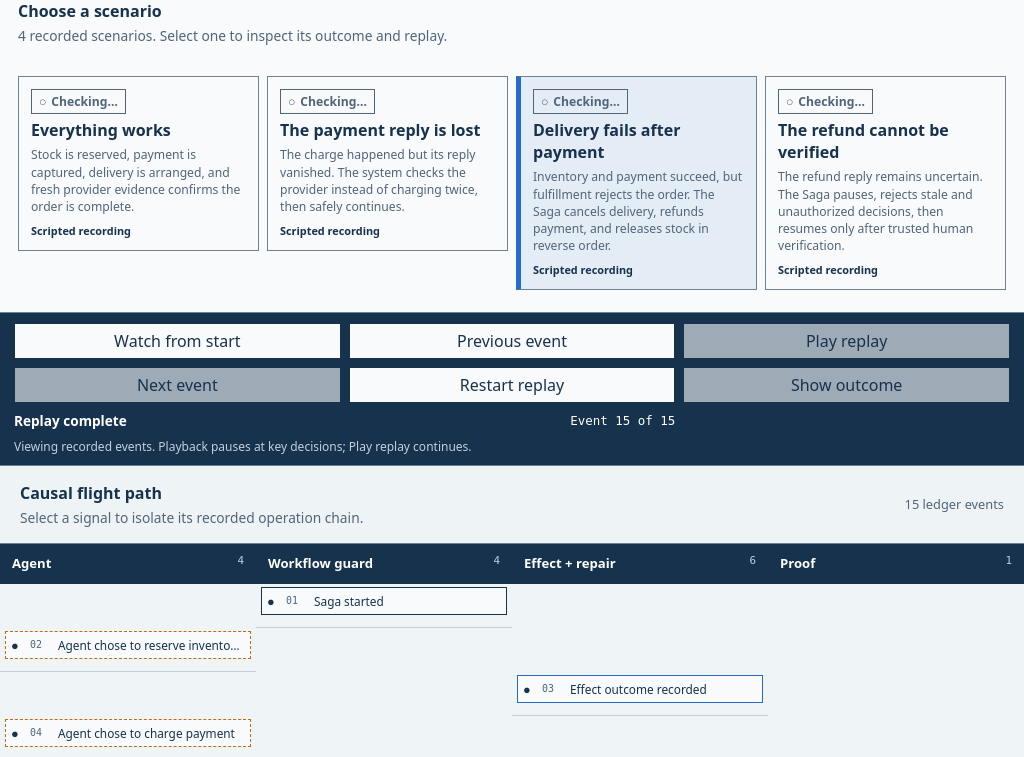
RecorderWorkbench › pauses replay when the operator changes evidence views
(page scrolled)
Step 1. Click the button "Restart replay" → (512, 385), box [349,367,675,403]
(page scrolled)
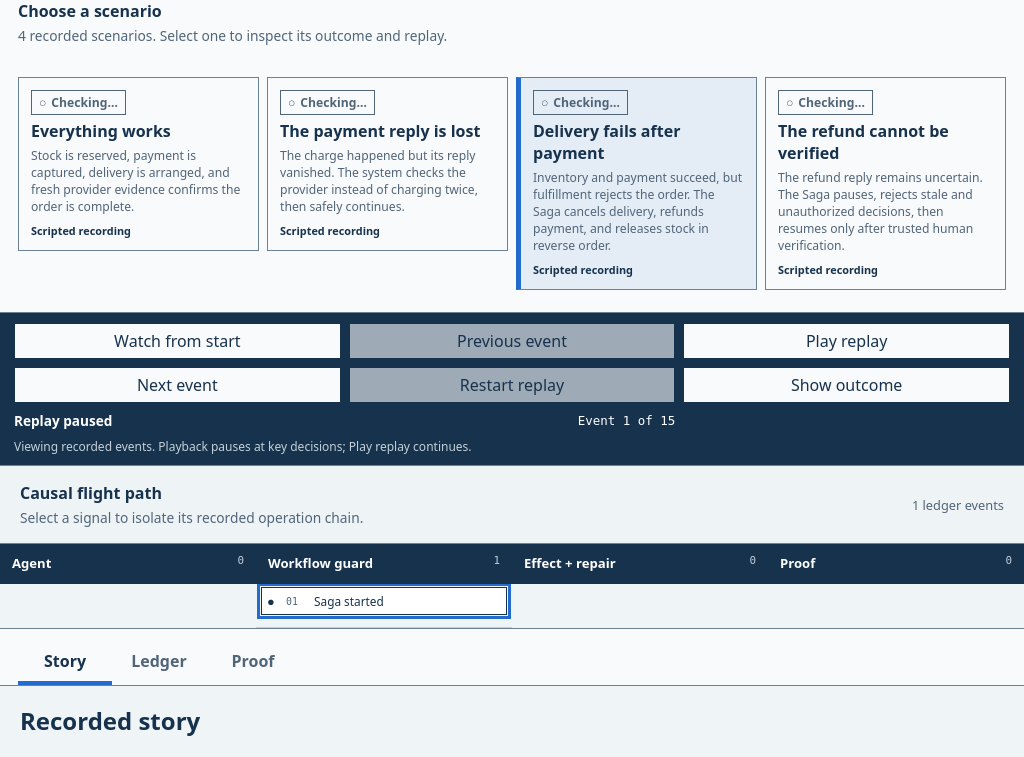
Step 2. Click the button "Play replay" → (847, 341), box [683,323,1010,359]
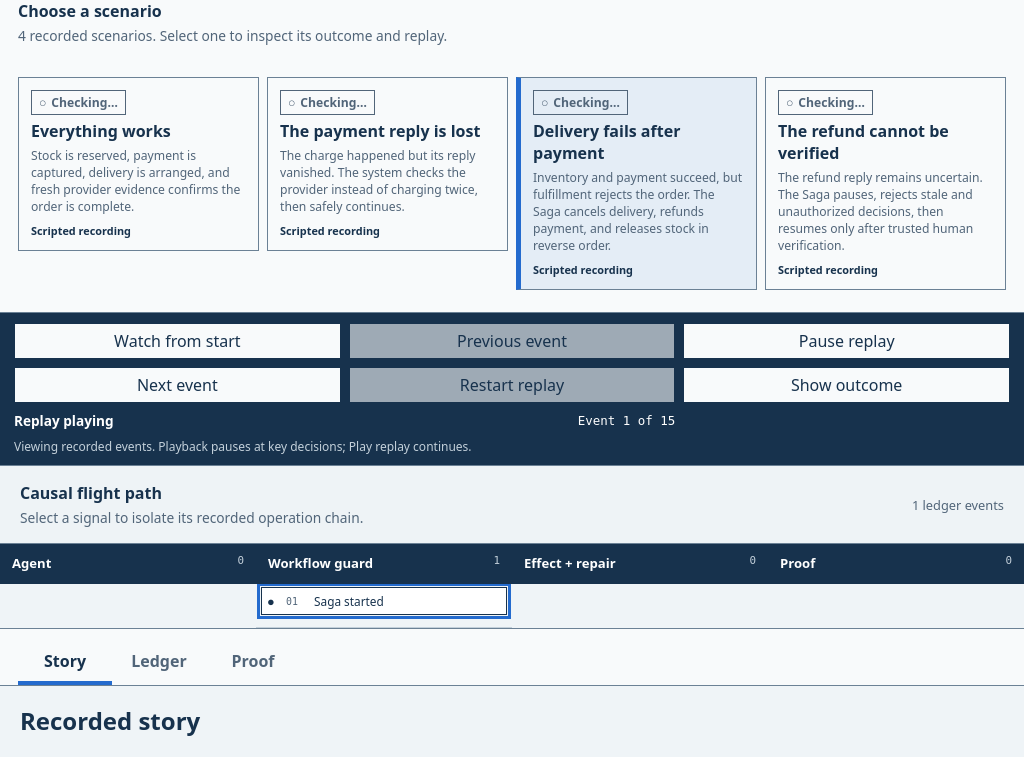
Step 3. Click the tab "Ledger" → (159, 663), box [112,641,206,685]
Wait 1000 ms
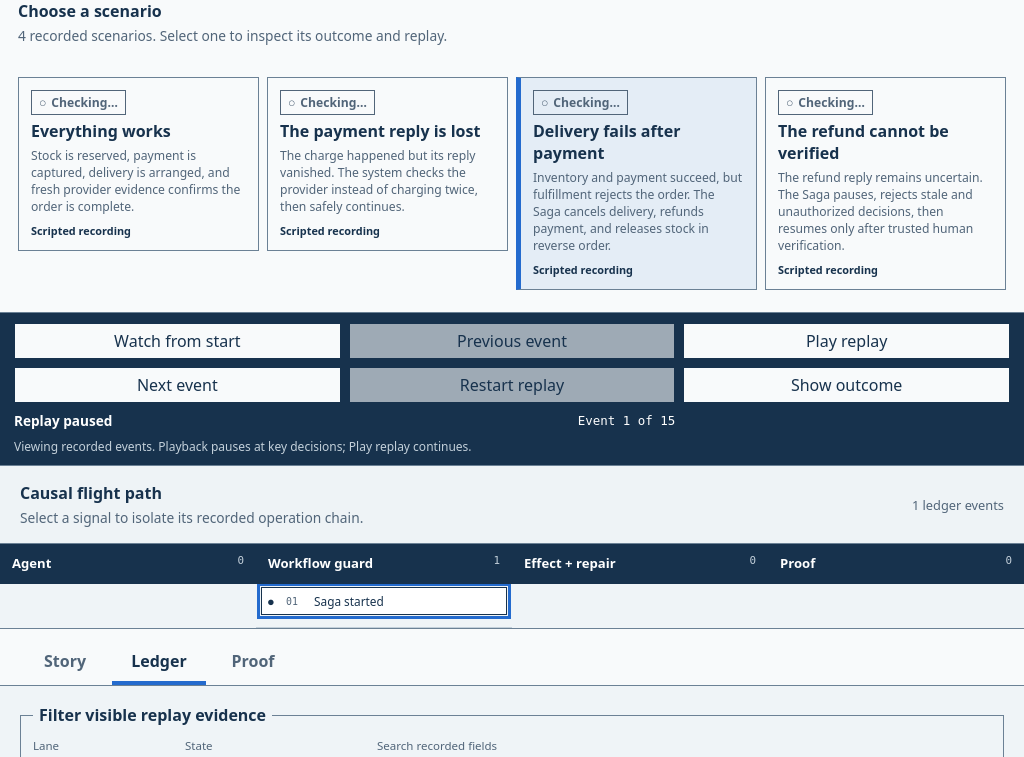
Expected: the button "Play replay" is shown, [683,323,1010,359]
